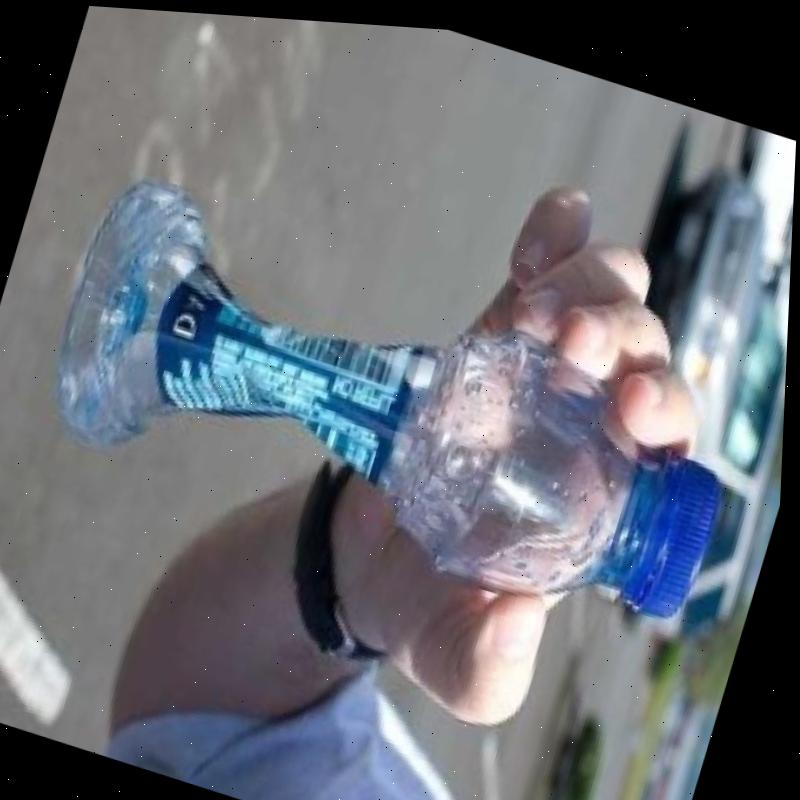botella: (29, 160, 766, 639)
